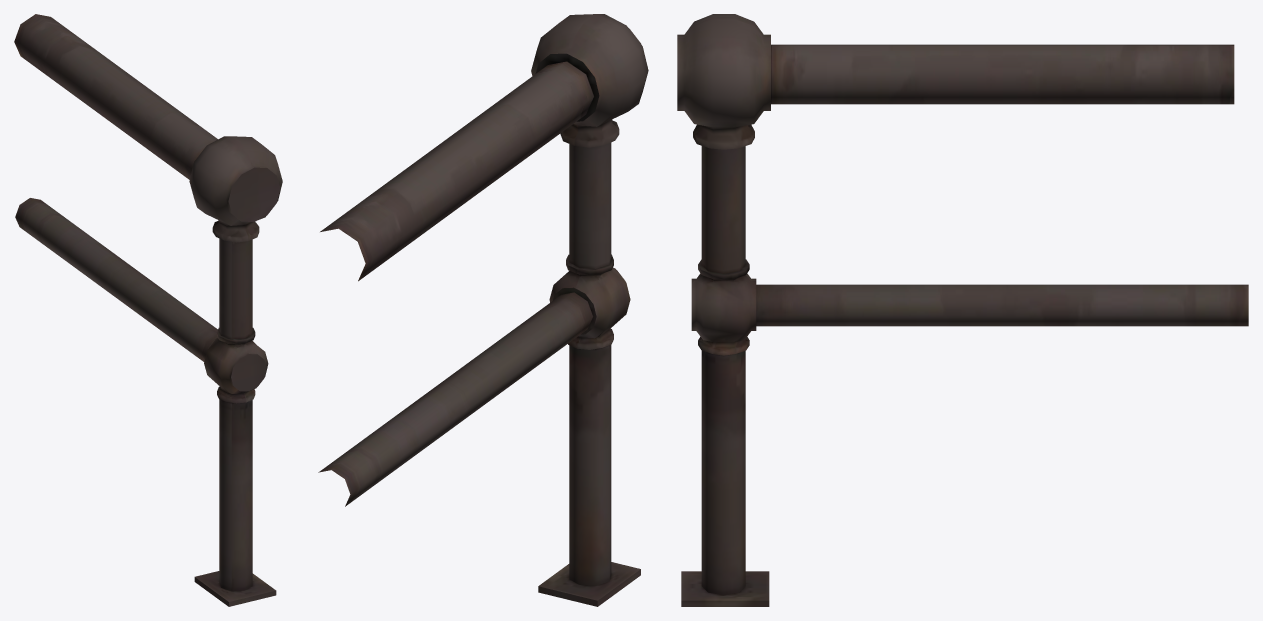
3 renders of one model, left to right at view 1: azimuth 30°, elevation 25°; view 2: azimuth 150°, elevation 25°; view 3: azimuth 270°, elevation 25°, orthographic. The views are drawn at different scales.
Parts seen in each view (by area): view 1: body0_model0_lod0_mesh0; view 2: body0_model0_lod0_mesh0; view 3: body0_model0_lod0_mesh0.
Part boxes in pixels (x1,y1,x2,y2): body0_model0_lod0_mesh0: [14, 14, 282, 606]; body0_model0_lod0_mesh0: [318, 14, 648, 606]; body0_model0_lod0_mesh0: [677, 14, 1248, 606].
Bounding box in the file's own units: 6.78 × 36.32 × 32.82.
1 material, 1 textured.
